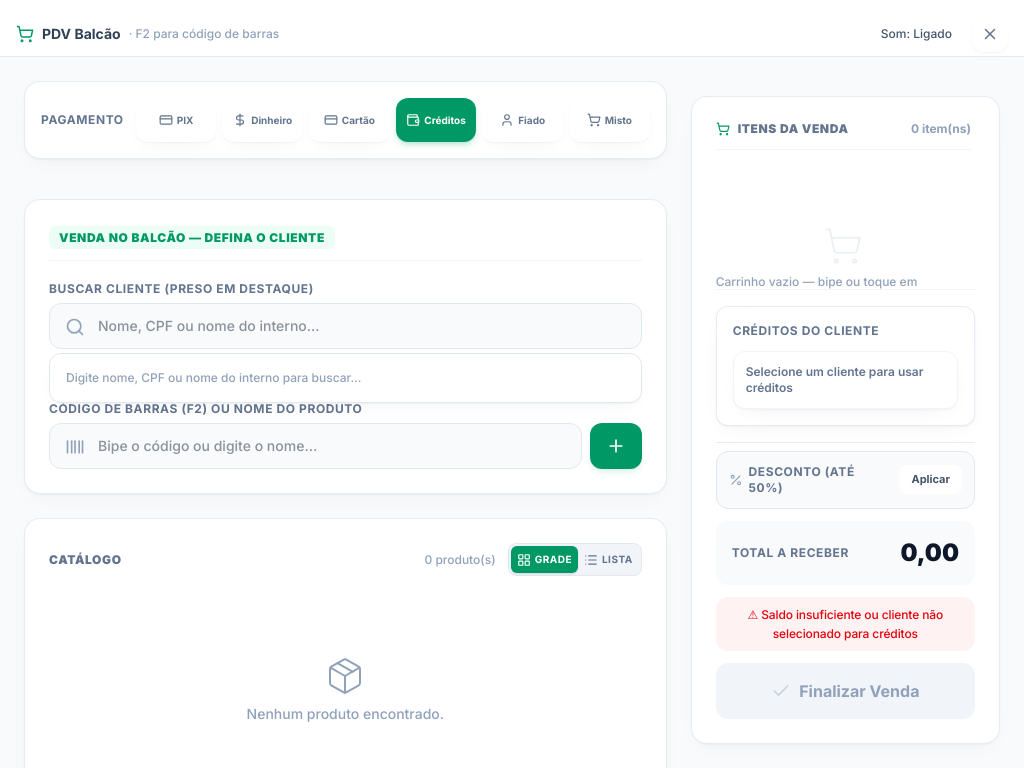
Test: lista de clientes do PDV — preso é o destaque, familiar é apoio › exibe o CPF mascarado do responsável à direita
This screenshot has width=1024, height=768.
Type "MARIA" into the field with placeholder "Nome, CPF ou nome do interno..." at (345, 326), box [49,303,642,349]
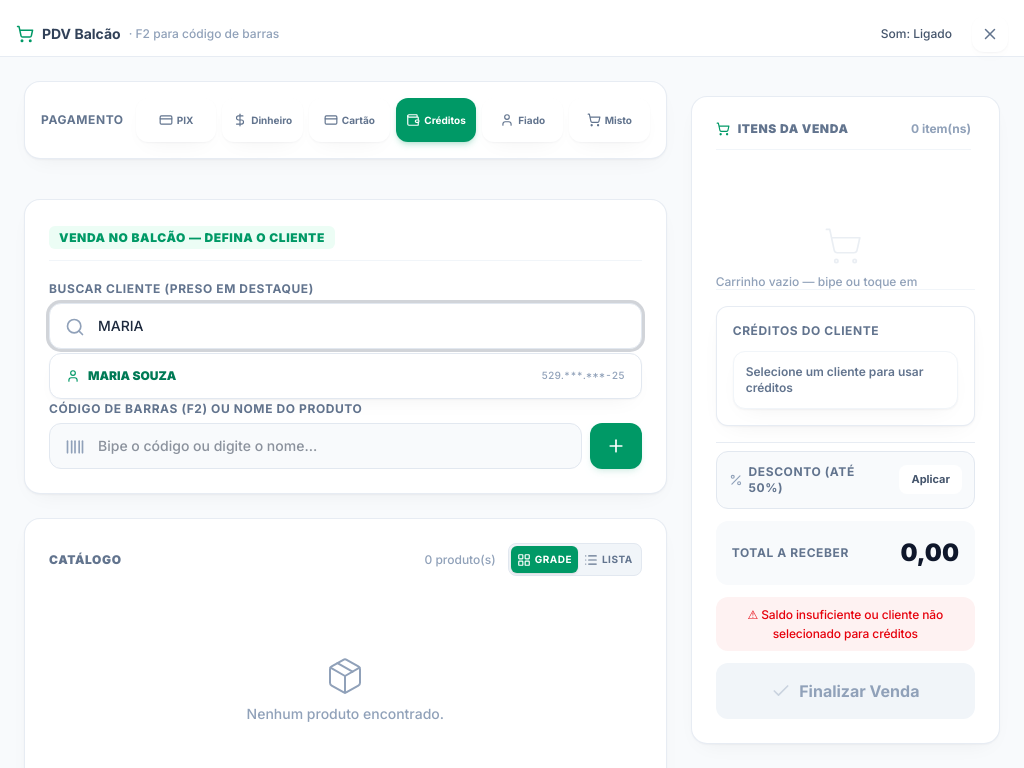
Expected: the button "MARIA SOUZA 529.***.***-25" is shown, [54,358,637,394]
